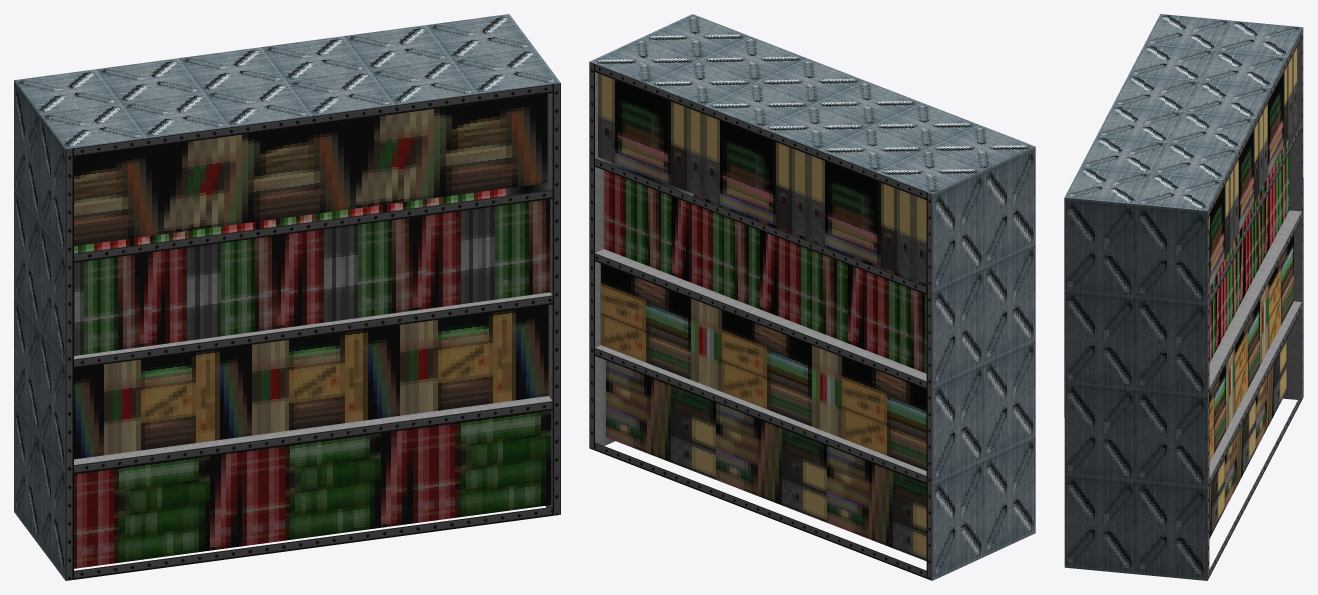
The model's file is primary_171.glb.
3 renders of one model, left to right at view 1: azimuth 30°, elevation 25°; view 2: azimuth 150°, elevation 25°; view 3: azimuth 270°, elevation 25°, orthographic. The views are drawn at different scales.
Visible parts, largest first — view 1: Object; view 2: Object; view 3: Object.
Part boxes in pixels (x1,y1,x2,y2): Object: (14, 14, 560, 580); Object: (589, 14, 1035, 580); Object: (1064, 14, 1303, 580).
Size of the model in its own units: 2.83 by 2.48 by 1.45.
16 materials, 16 textured.
